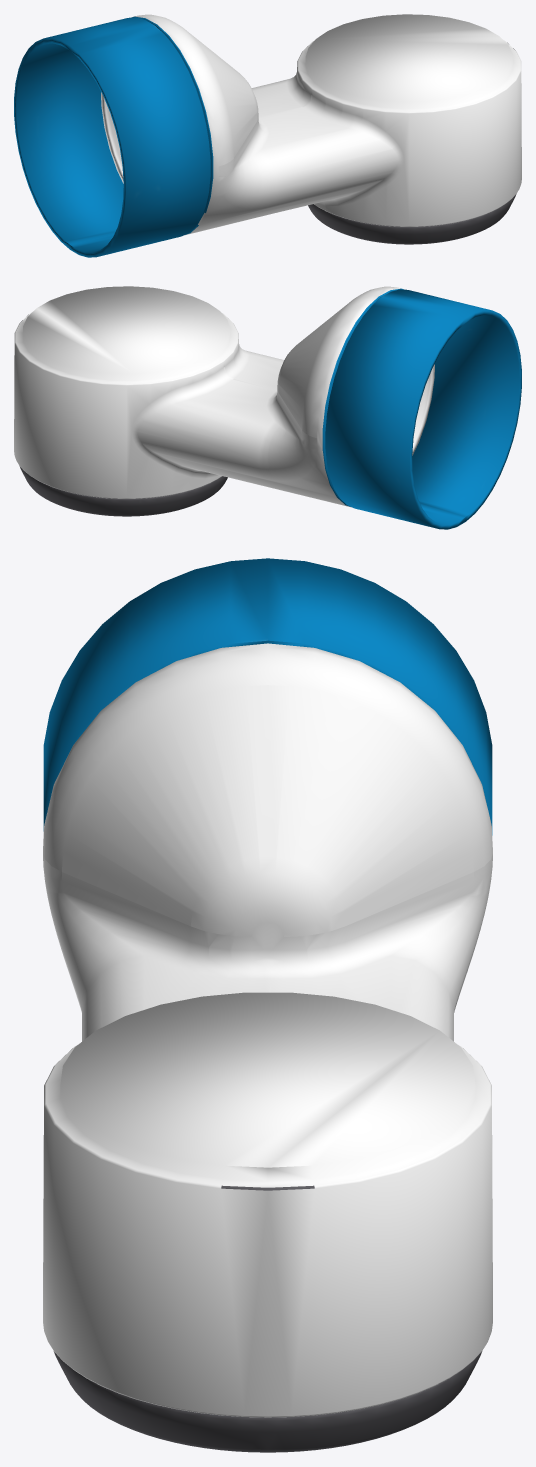
The model's file is upperarm_roll_link.obj.
The picture shows the model from 3 angles, top to bottom: view 1: azimuth 30°, elevation 25°; view 2: azimuth 150°, elevation 25°; view 3: azimuth 270°, elevation 25°; orthographic projection. The views are drawn at different scales.
Bounding box in the file's own units: 0.233 × 0.1225 × 0.104.
1 material, 1 textured.
